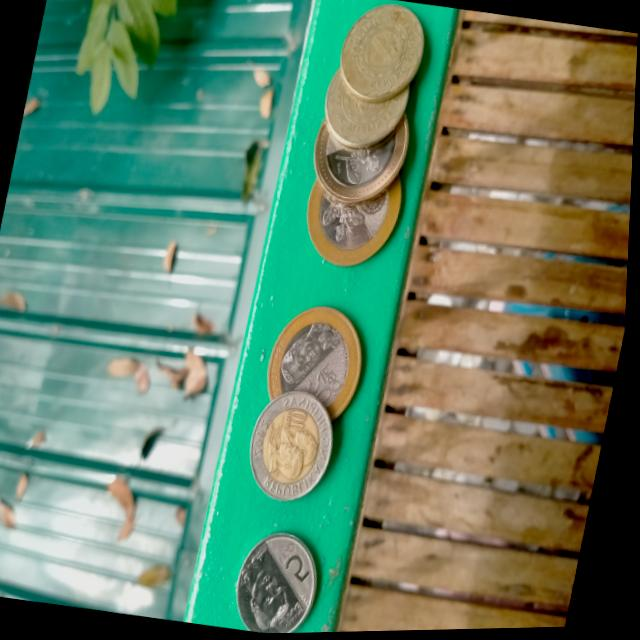10_Old_Front: (286, 404, 317, 437)
20_New_Back: (327, 142, 390, 191), (315, 195, 370, 245)
20_New_Front: (304, 356, 353, 413)
5_New_Front: (276, 538, 325, 588)
5_Old_Back: (333, 0, 430, 105), (315, 68, 407, 158)
